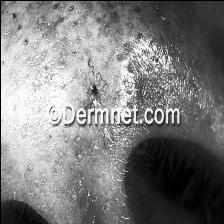Potentially Malignant Skin Tumors: (61, 0, 127, 104)
